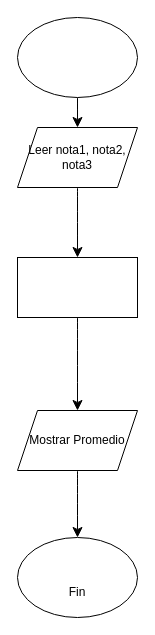
Some shapes in this 155 by 635 pixel diagram are drawn without their labels. The box of each missing label's shape, as (x1, y1, x2, y2) in pixels:
Inicio: (16, 16, 138, 98)
Promedio = (nota1 +nota2+nota3) /3: (16, 256, 138, 318)
